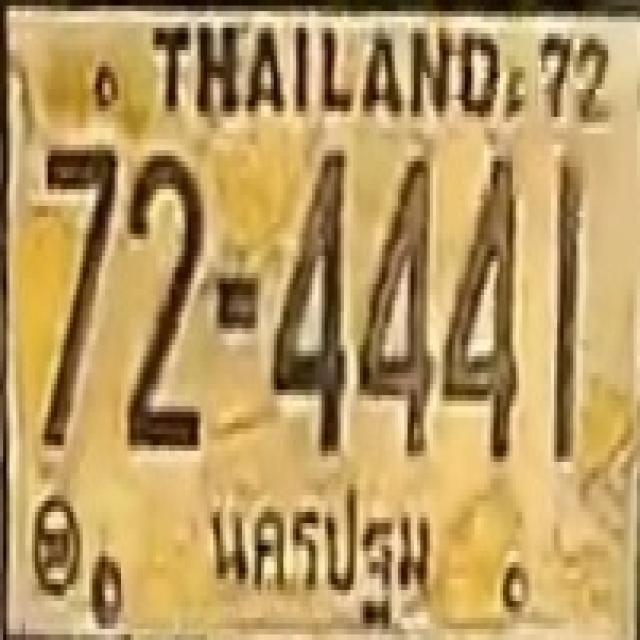1: (552, 153, 584, 459), (551, 156, 583, 462)
2: (124, 147, 201, 448)
4: (439, 150, 519, 457), (269, 144, 346, 450), (357, 150, 433, 451)
7: (42, 139, 114, 445)
NPT: (195, 469, 443, 632)
